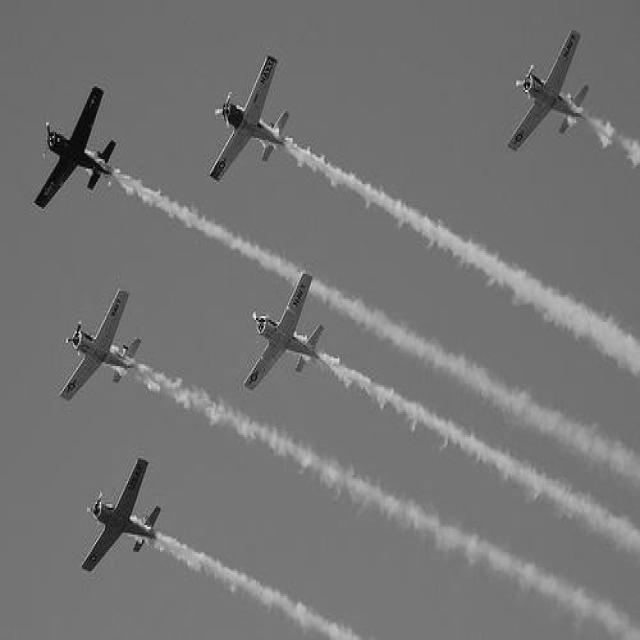aeroplane: (507, 26, 590, 158), (34, 82, 116, 214), (208, 54, 290, 182), (241, 272, 325, 391), (59, 288, 141, 404), (82, 456, 162, 571)
